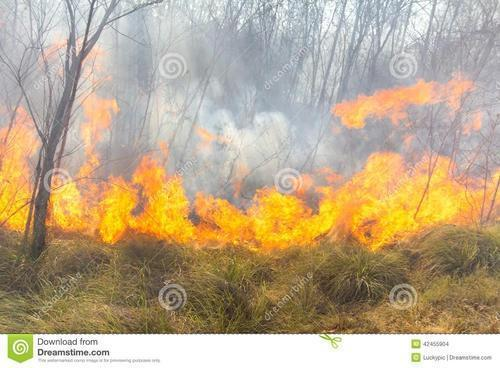fire: (2, 48, 495, 253)
